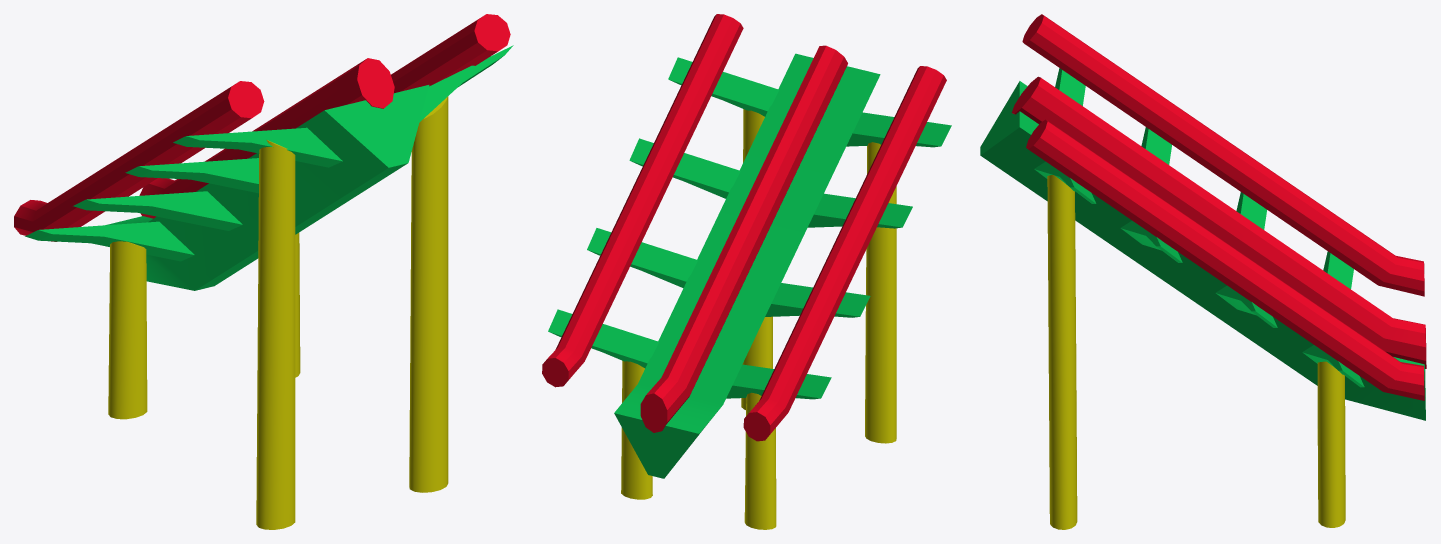
File: Rail_Incline_01.fbx
3 views of the same model, side by side, from view 1: azimuth 30°, elevation 25°; view 2: azimuth 150°, elevation 25°; view 3: azimuth 270°, elevation 25° (orthographic). The views are drawn at different scales.
Visible parts, largest first — view 1: Rail_Incline; view 2: Rail_Incline; view 3: Rail_Incline.
Boxes of the visible parts, x1,y1,x2,y2 form: Rail_Incline: [14, 14, 513, 529]; Rail_Incline: [542, 14, 951, 529]; Rail_Incline: [980, 14, 1426, 529].
Size of the model in its own units: 2.2 by 2.94 by 2.81.
